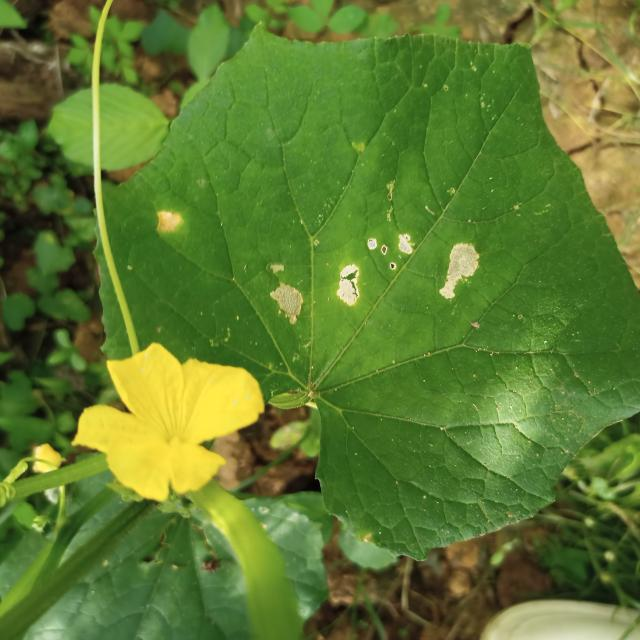disease_cucumber: (263, 232, 485, 324), (155, 205, 183, 232)
